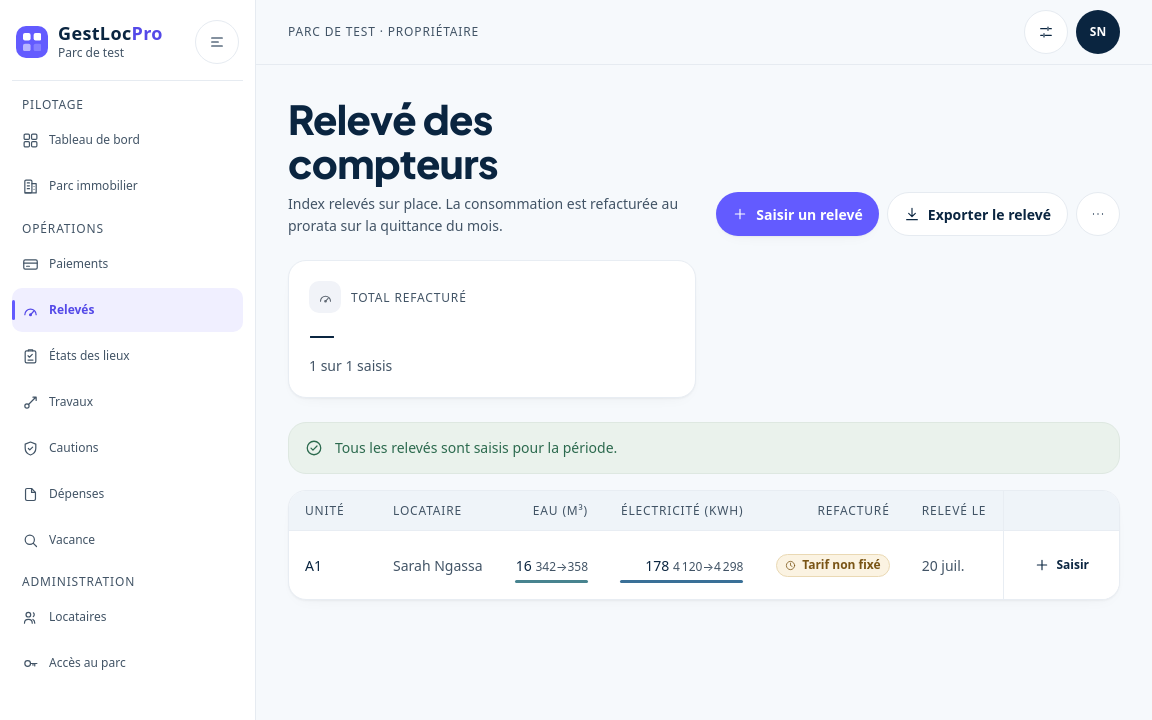
it: poser un prix › dit ce qu’un parc sans prix affiche, plutôt que de montrer une liste vide
Click the button named "Autres actions" at (1098, 214), box [1076,192,1120,236]
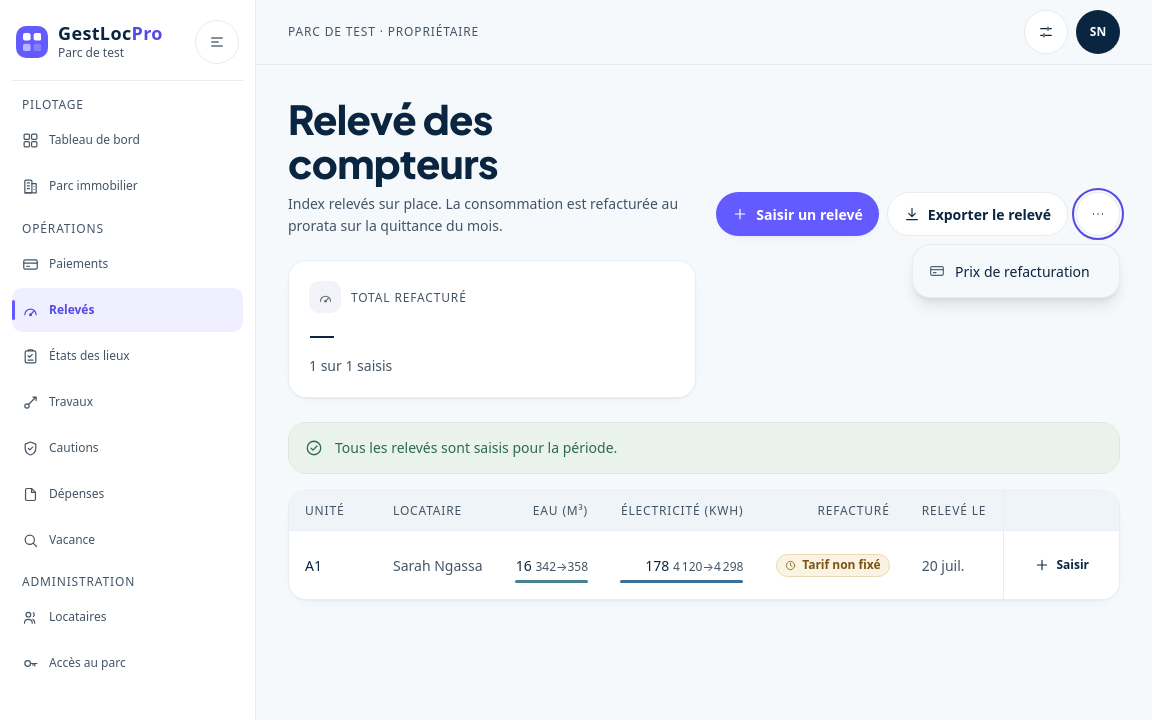
Click the menu item "Prix de refacturation" at (1016, 271), box [917,249,1115,293]
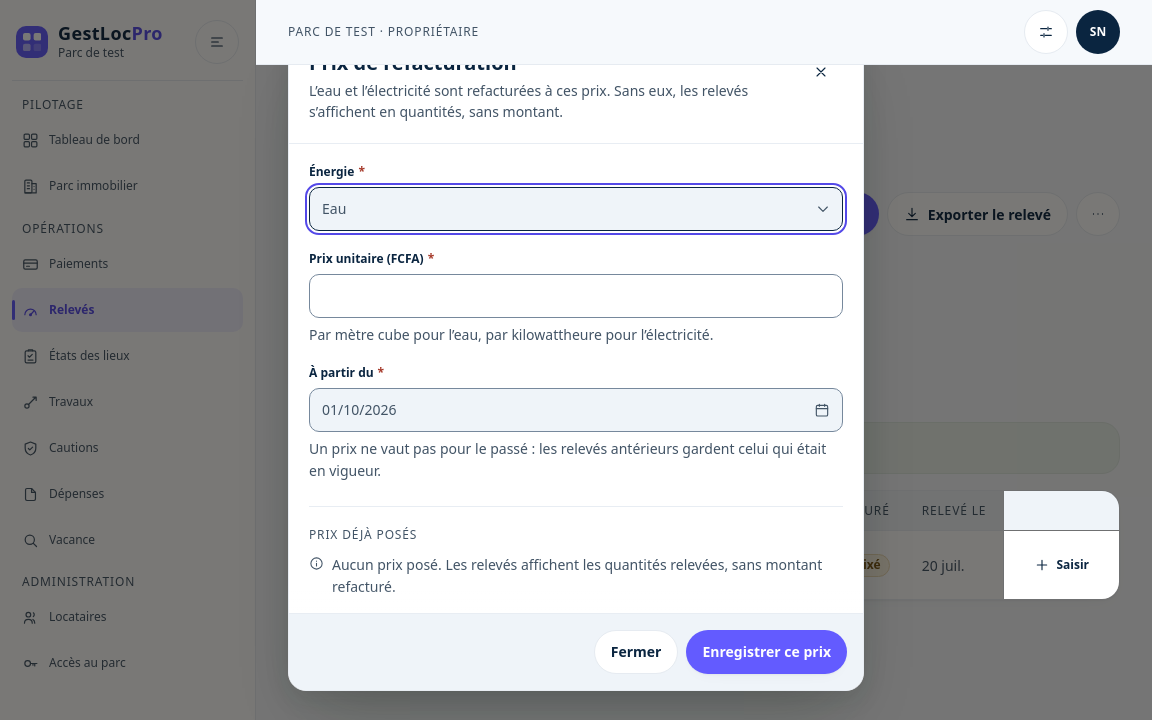
expect the text "Aucun prix posé. Les relevés affichent les quantités" is shown: met, box [332,555,822,596]
